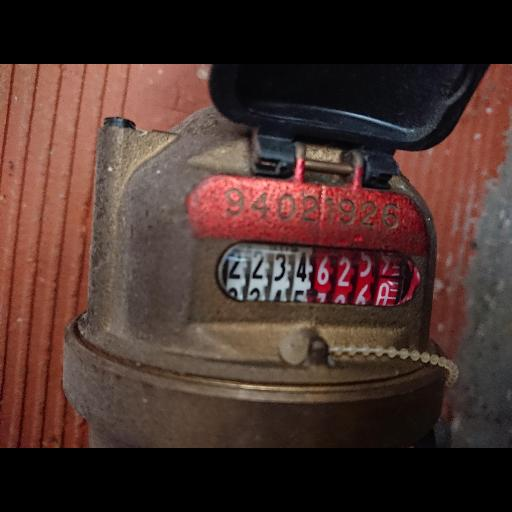2: (224, 241, 249, 302), (247, 244, 272, 303), (333, 248, 356, 304)
3: (270, 245, 293, 303)
4: (290, 245, 313, 303)
5: (353, 250, 376, 307)
6: (312, 247, 334, 303)
9: (373, 249, 401, 307)
border_water_meter_number: (213, 238, 424, 315)
